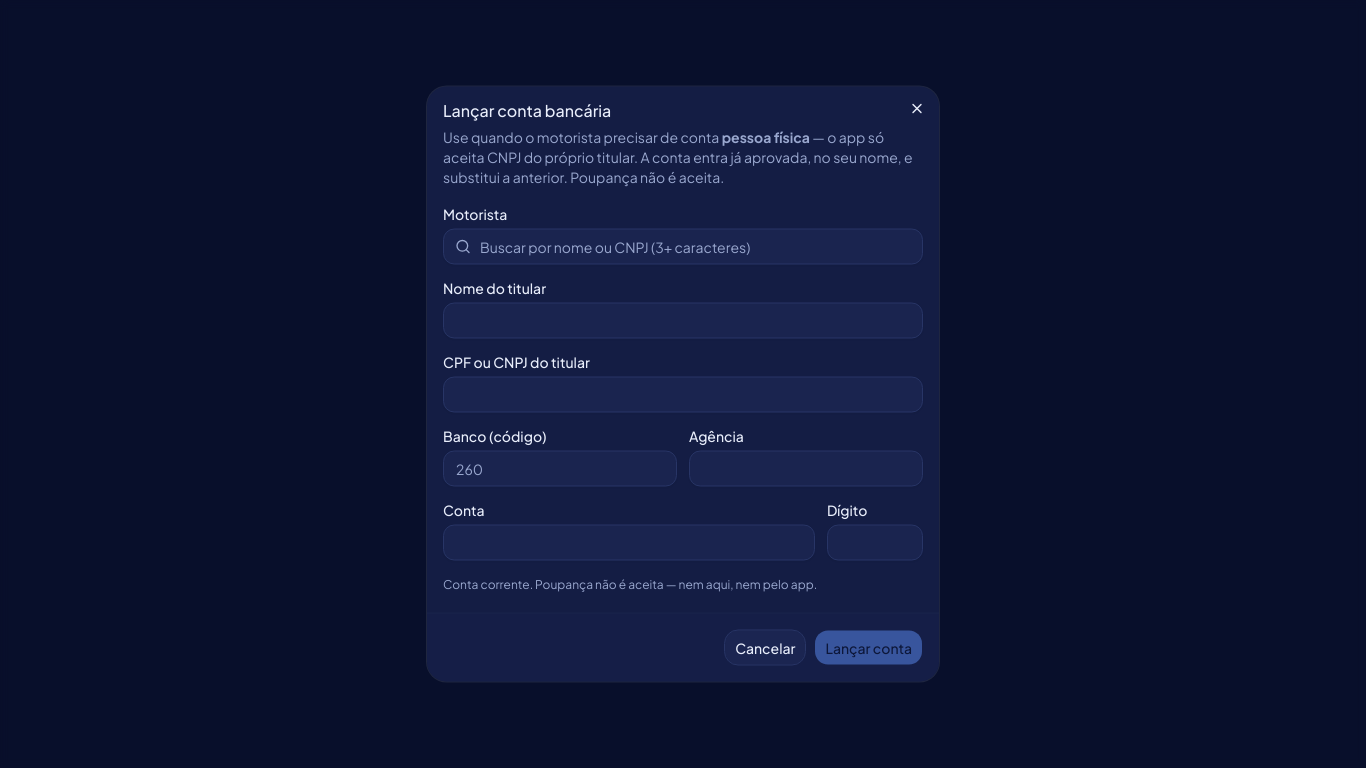
LancarContaDialog › pré-preenche o titular com o nome do motorista escolhido
This screenshot has width=1366, height=768.
Type "Fulano" into the field labelled "Motorista" at point(683, 246), box top-left (443, 228), bottom-right (923, 264)
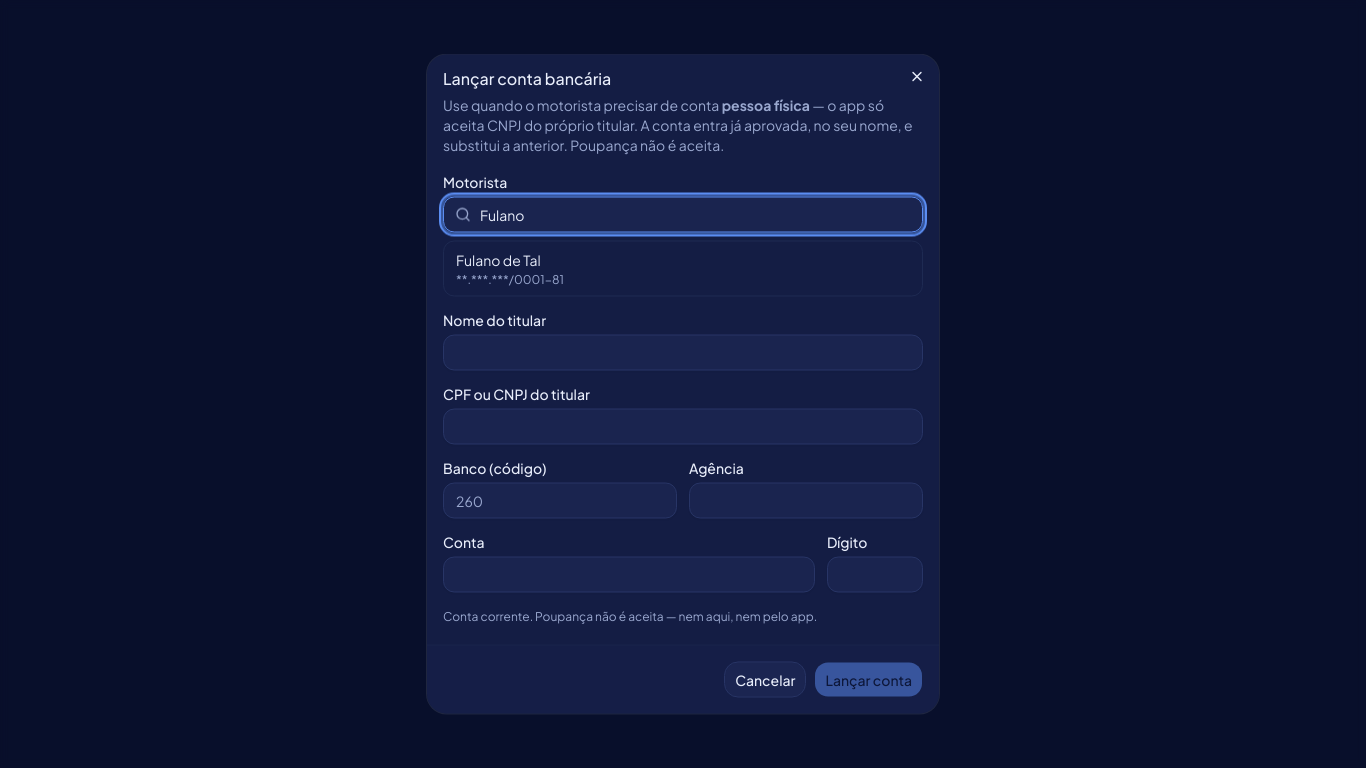
Click the text "Fulano de Tal" at point(498, 260), box top-left (456, 250), bottom-right (541, 270)
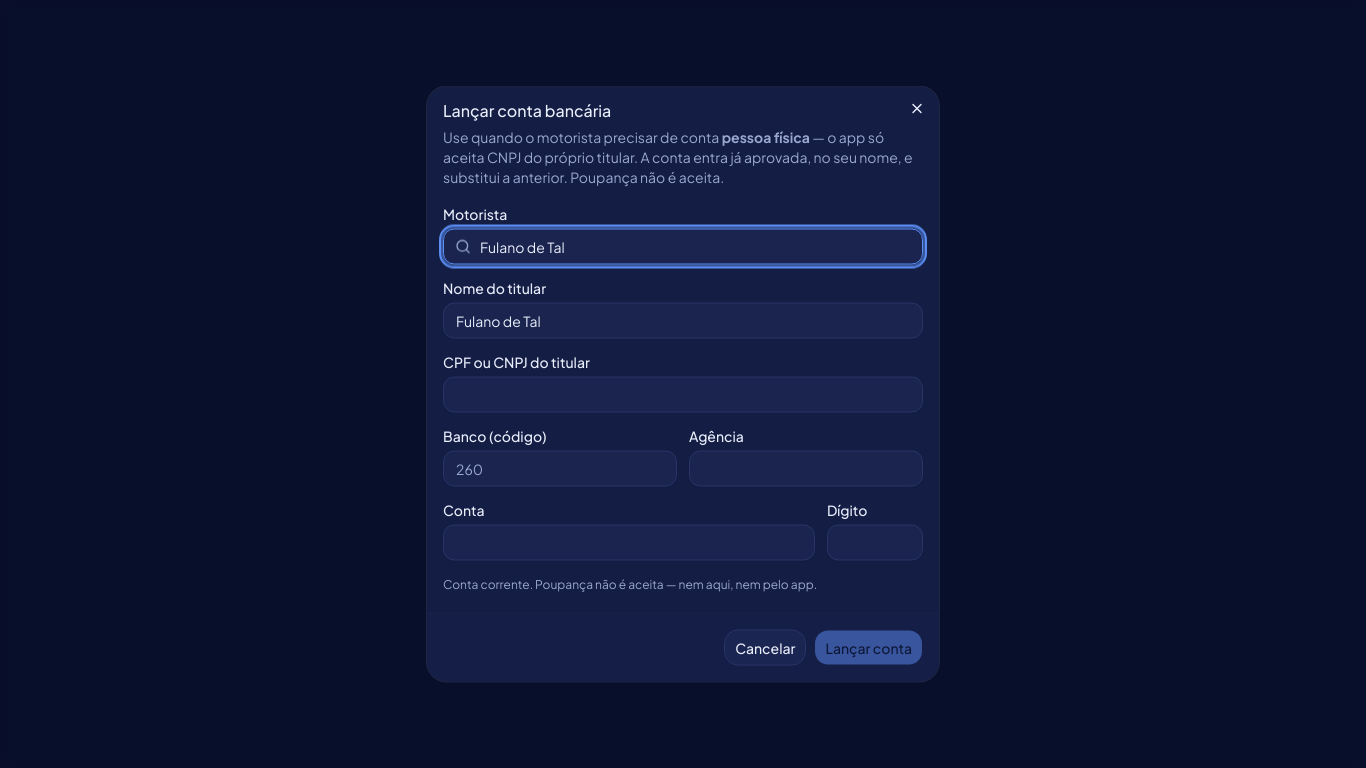
Check: the field labelled "Nome do titular" holds "Fulano de Tal", box top-left (443, 302), bottom-right (923, 338)
